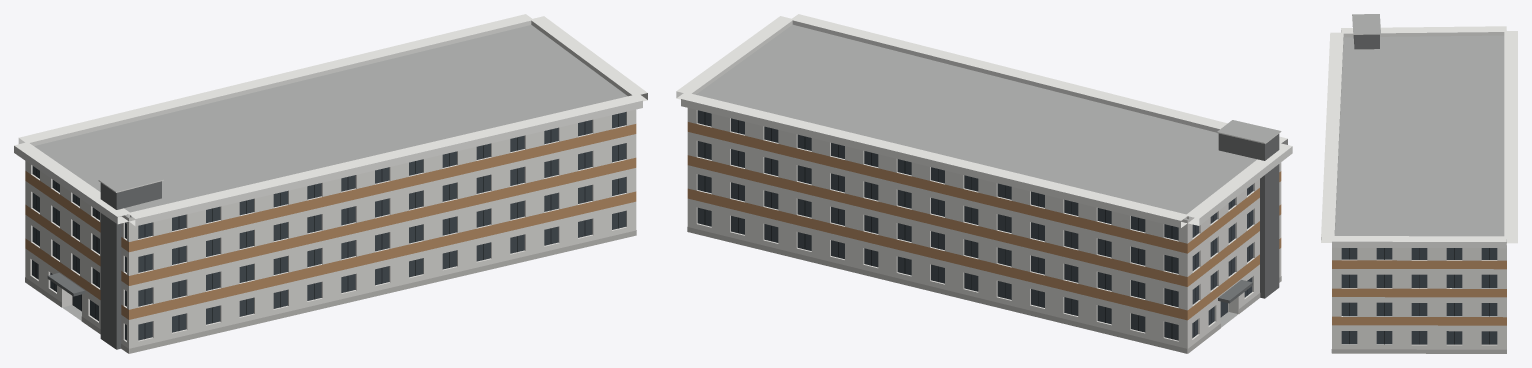
3 renders of one model, left to right at view 1: azimuth 30°, elevation 25°; view 2: azimuth 150°, elevation 25°; view 3: azimuth 270°, elevation 25°, orthographic. The views are drawn at different scales.
Parts seen in each view (by area): view 1: medicine2__roof, medicine2__wall, medicine2__wall2, medicine2__trim, medicine2__glass, medicine2__coreGrey, medicine2__base, medicine2__frame; view 2: medicine2__roof, medicine2__wall, medicine2__wall2, medicine2__trim, medicine2__glass, medicine2__coreGrey, medicine2__base, medicine2__frame; view 3: medicine2__roof, medicine2__wall, medicine2__trim, medicine2__wall2, medicine2__glass, medicine2__base, medicine2__coreGrey, medicine2__frame.
Part boxes in pixels (box(x1,y1,x2,y2)): medicine2__roof: box(34, 25, 627, 320); medicine2__wall: box(25, 109, 636, 353); medicine2__wall2: box(25, 124, 636, 319); medicine2__trim: box(14, 14, 647, 226); medicine2__glass: box(32, 112, 626, 340); medicine2__coreGrey: box(100, 181, 161, 349); medicine2__base: box(25, 230, 636, 353); medicine2__frame: box(35, 113, 618, 338); medicine2__roof: box(696, 24, 1280, 327); medicine2__wall: box(687, 108, 1281, 353); medicine2__wall2: box(687, 122, 1281, 320); medicine2__trim: box(676, 14, 1292, 227); medicine2__glass: box(697, 110, 1253, 340); medicine2__coreGrey: box(1218, 133, 1279, 298); medicine2__base: box(687, 227, 1281, 353); medicine2__frame: box(704, 112, 1249, 338); medicine2__roof: box(1334, 14, 1506, 240); medicine2__wall: box(1332, 241, 1506, 349); medicine2__trim: box(1321, 15, 1517, 248); medicine2__wall2: box(1332, 260, 1506, 325); medicine2__glass: box(1341, 248, 1497, 344); medicine2__base: box(1331, 349, 1506, 353); medicine2__coreGrey: box(1353, 34, 1379, 49); medicine2__frame: box(1349, 248, 1489, 344).
Size of the model in its own units: 64.36 by 18.4 by 24.82.
